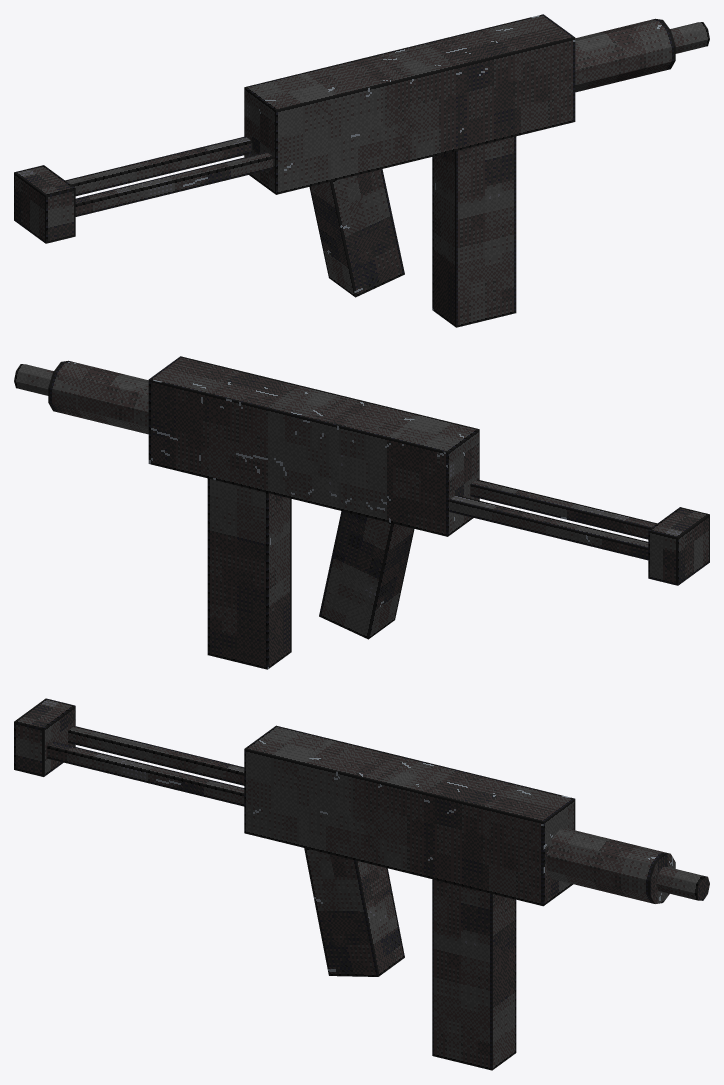
The model's file is SM_SMG_01.glb.
3 views of the same model, one above another, from view 1: azimuth 30°, elevation 25°; view 2: azimuth 150°, elevation 25°; view 3: azimuth 330°, elevation 25° (orthographic).
Parts seen in each view (by area): view 1: SM_SMG_01; view 2: SM_SMG_01; view 3: SM_SMG_01.
Part boxes in pixels (x1,y1,x2,y2): SM_SMG_01: [14, 14, 709, 327]; SM_SMG_01: [14, 356, 709, 669]; SM_SMG_01: [14, 698, 709, 1070].
Size of the model in its own units: 0.585 by 0.22 by 0.048.
Materials: 1 (1 with a texture image).
